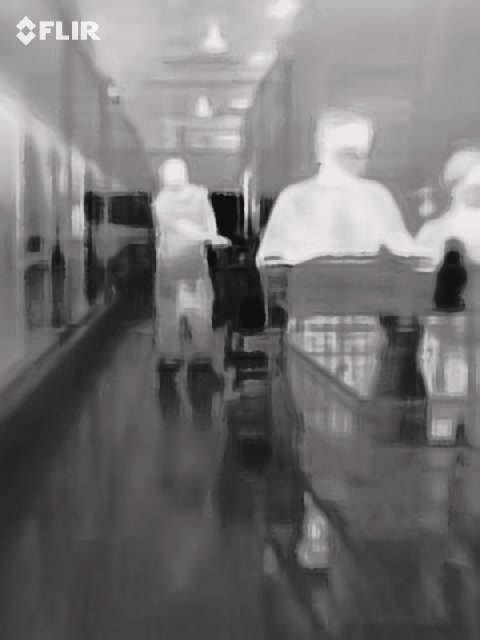head: (315, 108, 375, 179), (443, 148, 480, 206)
